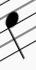note: (3, 1, 29, 61)
